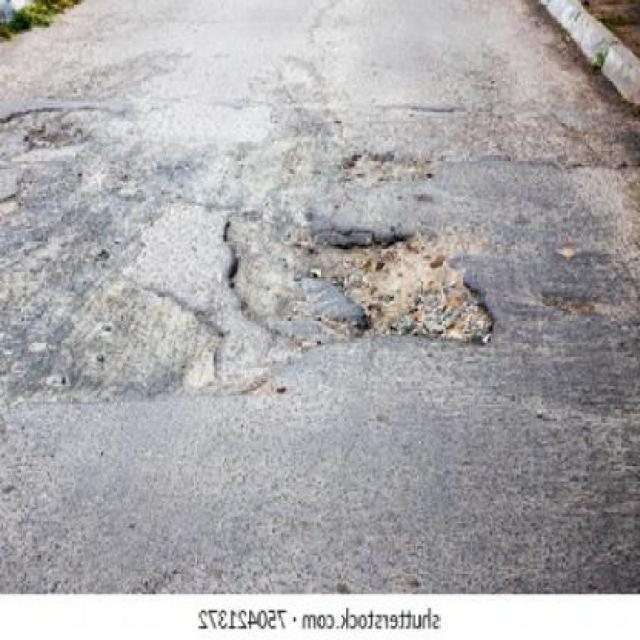Pothole: (220, 205, 506, 369)
